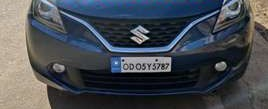OD05Y5787: (110, 56, 171, 72)
